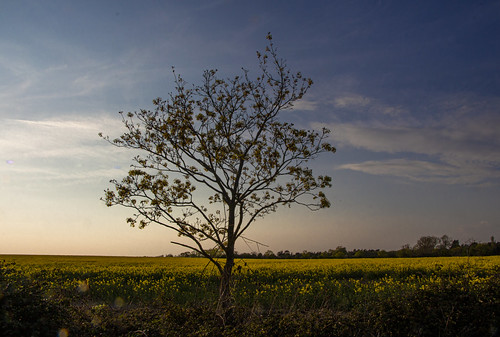grass: (5, 254, 500, 337)
sky: (1, 1, 490, 240)
tree: (105, 64, 336, 308)
